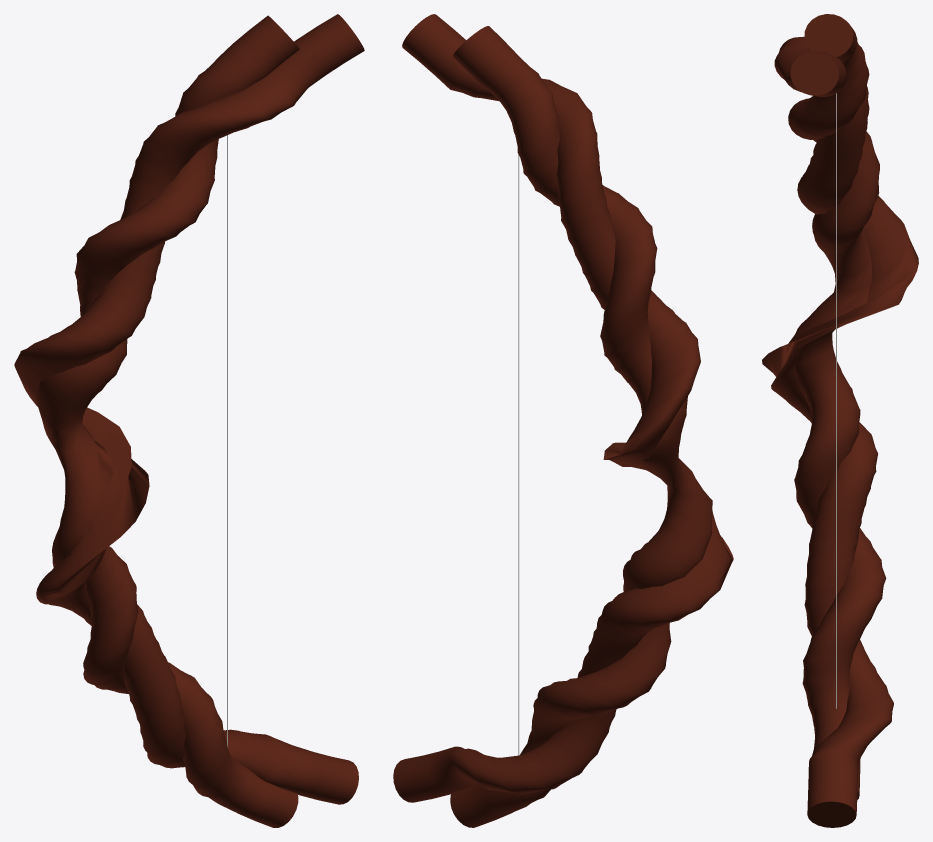
File: bow.fbx
The picture shows the model from 3 angles, left to right: view 1: azimuth 30°, elevation 25°; view 2: azimuth 150°, elevation 25°; view 3: azimuth 270°, elevation 25°; orthographic projection. The views are drawn at different scales.
Visible parts, largest first — view 1: pCylinder10; view 2: pCylinder10, pCylinder4; view 3: pCylinder10, pCylinder4.
Part boxes in pixels (x1,y1,x2,y2): pCylinder10: [14, 14, 364, 827]; pCylinder10: [393, 14, 733, 827]; pCylinder4: [518, 154, 519, 755]; pCylinder10: [762, 14, 918, 827]; pCylinder4: [836, 93, 836, 708].
Bounding box in the file's own units: 142 × 345 × 61.88.
